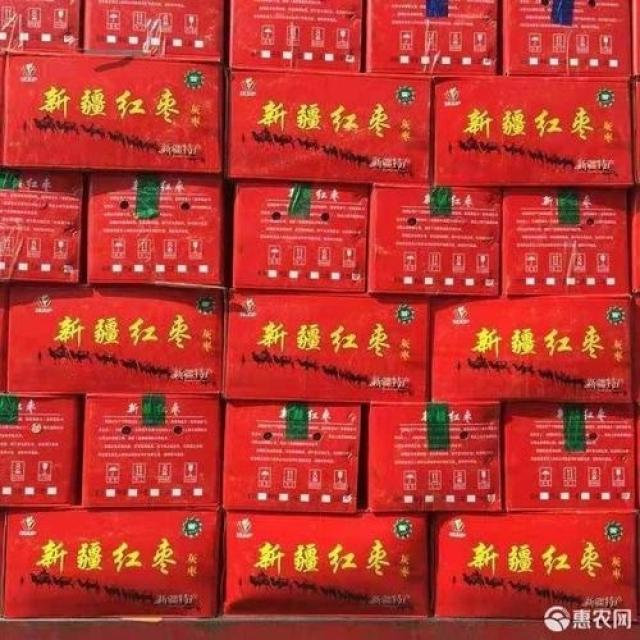box: (1, 54, 223, 174), (1, 507, 221, 618), (8, 283, 227, 394), (227, 67, 433, 184), (225, 291, 430, 403), (430, 511, 640, 620), (219, 509, 429, 618), (431, 294, 635, 403), (434, 76, 634, 184), (81, 393, 221, 506), (223, 402, 362, 515), (84, 173, 223, 284), (366, 183, 502, 296), (502, 399, 636, 511), (230, 182, 365, 292), (367, 402, 502, 512), (502, 187, 630, 297), (504, 0, 631, 77), (229, 0, 364, 72), (367, 0, 498, 74), (0, 169, 83, 284), (86, 0, 227, 64), (0, 394, 81, 504), (628, 189, 640, 293), (632, 81, 640, 182), (630, 0, 640, 77)
